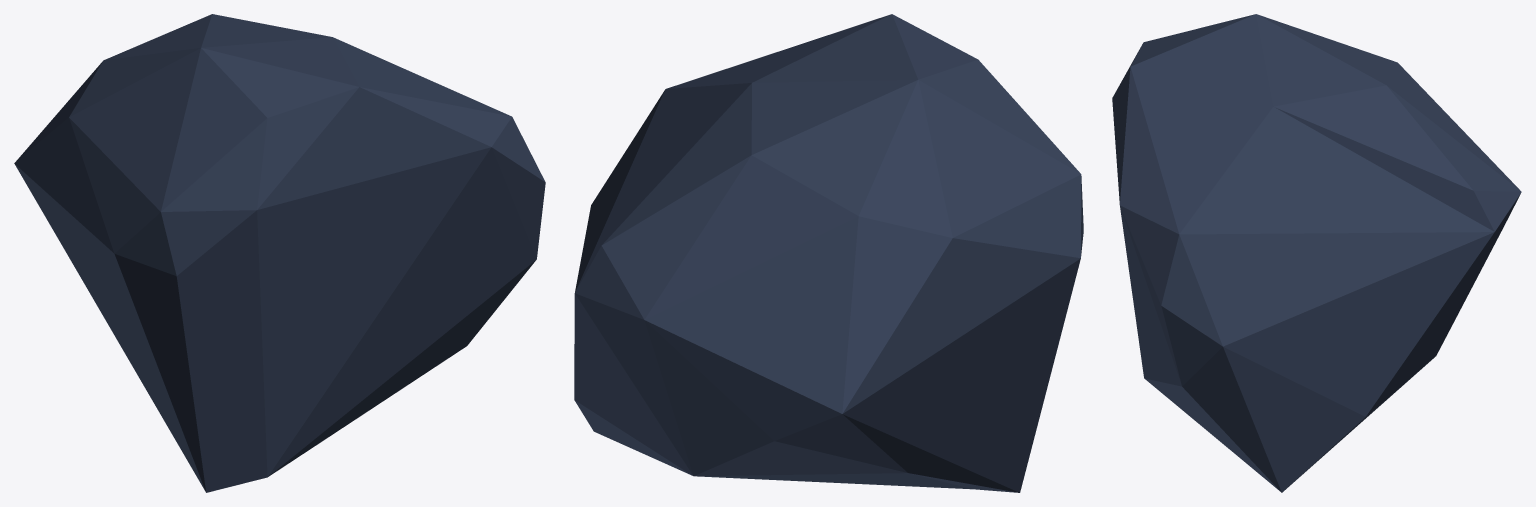
Rendered from Rock_3.fbx.
The picture shows the model from 3 angles, left to right: view 1: azimuth 30°, elevation 25°; view 2: azimuth 150°, elevation 25°; view 3: azimuth 270°, elevation 25°; orthographic projection. The views are drawn at different scales.
Parts seen in each view (by area): view 1: Rock 3; view 2: Rock 3; view 3: Rock 3.
Part boxes in pixels (box(x1,y1,x2,y2)): Rock 3: box(14, 14, 545, 492); Rock 3: box(574, 14, 1083, 492); Rock 3: box(1112, 14, 1521, 492).
Bounding box in the file's own units: 220 × 196 × 194.
